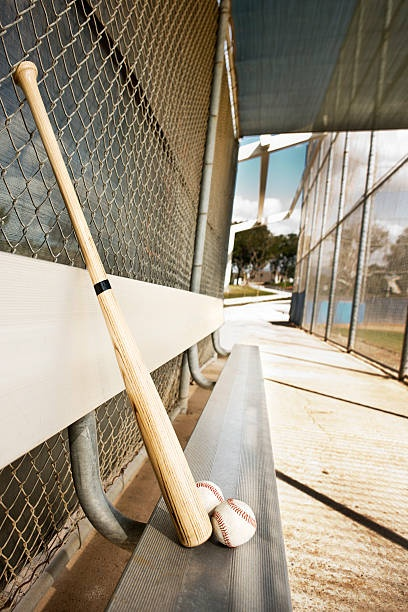bita: (13, 64, 212, 547)
